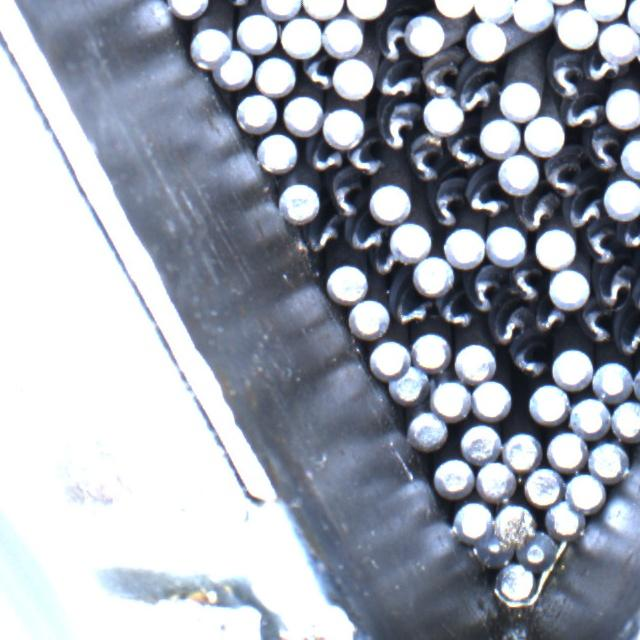tool: (491, 561, 540, 606), (274, 182, 322, 227), (554, 3, 598, 48), (186, 26, 232, 69), (514, 533, 563, 573), (496, 501, 541, 544), (401, 13, 445, 56), (370, 181, 413, 225), (388, 218, 431, 261), (547, 267, 590, 310), (324, 262, 366, 306), (279, 14, 321, 57), (235, 11, 278, 53), (528, 382, 569, 426), (598, 20, 638, 65), (464, 18, 506, 60), (550, 347, 592, 389), (428, 375, 469, 417), (254, 53, 295, 95), (322, 15, 363, 57), (458, 421, 500, 462), (235, 91, 277, 132), (213, 48, 253, 91), (601, 177, 640, 221), (468, 531, 514, 568), (523, 114, 563, 156), (280, 93, 320, 135), (443, 226, 485, 266), (332, 56, 372, 98), (533, 226, 575, 266), (450, 501, 492, 541), (479, 115, 520, 155), (498, 152, 538, 193), (411, 329, 451, 370), (256, 132, 297, 172), (498, 79, 539, 119), (474, 459, 515, 499), (568, 393, 608, 434), (486, 224, 526, 265), (348, 298, 389, 338), (406, 410, 448, 449), (432, 456, 474, 495), (322, 105, 362, 145), (413, 254, 453, 294), (586, 438, 626, 478), (524, 464, 563, 505), (368, 336, 409, 375), (453, 340, 494, 379), (502, 430, 541, 470), (546, 429, 585, 469), (471, 378, 510, 418), (423, 96, 463, 135), (564, 469, 603, 508), (604, 85, 640, 127), (387, 367, 427, 404), (593, 359, 630, 398), (545, 499, 583, 536), (511, 0, 552, 30), (610, 399, 640, 439), (167, 0, 210, 21), (474, 0, 513, 23), (620, 134, 640, 176), (584, 0, 625, 19), (345, 0, 388, 18), (302, 0, 343, 18), (432, 0, 474, 17), (260, 0, 301, 17)
tool_b: (560, 89, 609, 134), (466, 170, 507, 222), (374, 100, 420, 145), (581, 128, 623, 175), (324, 174, 369, 216), (512, 191, 556, 233), (544, 156, 589, 197), (429, 177, 467, 225), (457, 72, 499, 115), (465, 264, 501, 314), (547, 52, 584, 99), (375, 59, 420, 97), (409, 132, 443, 181), (559, 194, 607, 228), (387, 294, 430, 331), (448, 130, 486, 171), (506, 261, 544, 302), (421, 57, 458, 99), (489, 306, 529, 344), (576, 304, 612, 345), (345, 141, 386, 176), (297, 59, 334, 97), (510, 342, 548, 379), (580, 54, 623, 86), (597, 271, 632, 309), (581, 226, 615, 265), (346, 218, 386, 251), (302, 220, 341, 253), (377, 15, 406, 59), (436, 295, 472, 330), (530, 302, 566, 337), (615, 312, 640, 358), (306, 142, 343, 172), (367, 253, 400, 279), (620, 219, 640, 252)
